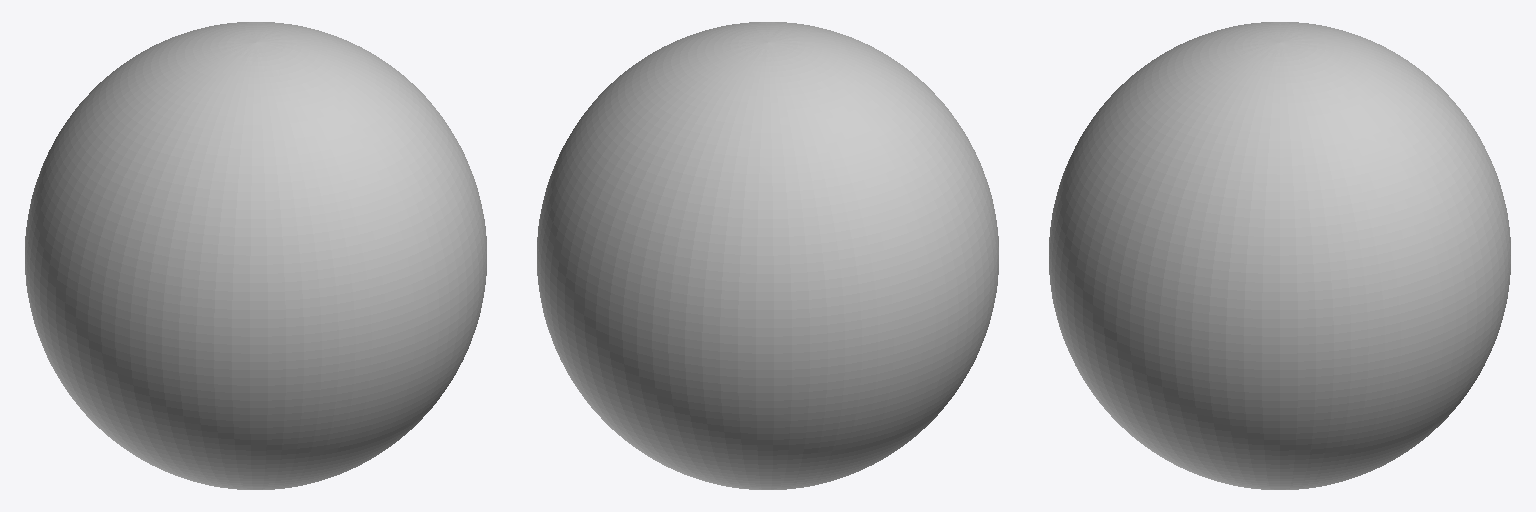
File: m_rshoulder.obj
3 renders of one model, left to right at view 1: azimuth 30°, elevation 25°; view 2: azimuth 150°, elevation 25°; view 3: azimuth 270°, elevation 25°, orthographic.
Parts seen in each view (by area): view 1: pSphere3; view 2: pSphere3; view 3: pSphere3.
Part boxes in pixels (left/top/right/bottom): pSphere3: left=25, top=22, right=486, bottom=489; pSphere3: left=537, top=22, right=998, bottom=489; pSphere3: left=1049, top=22, right=1510, bottom=489.
Bounding box in the file's own units: 0.6424 × 0.6539 × 0.6424.